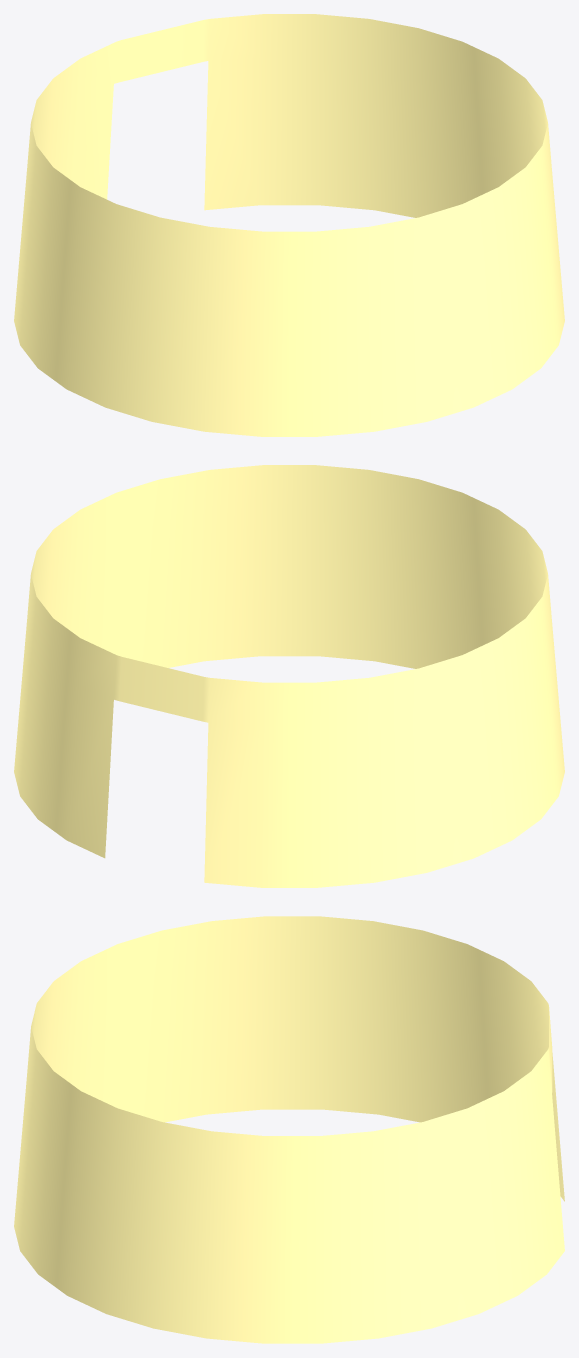
The model's file is wall2.glb.
3 renders of one model, top to bottom at view 1: azimuth 30°, elevation 25°; view 2: azimuth 150°, elevation 25°; view 3: azimuth 270°, elevation 25°, orthographic.
Visible parts, largest first — view 1: wall2; view 2: wall2; view 3: wall2.
Boxes of the visible parts, box(x1,y1,x2,y2) form: wall2: box(14, 14, 564, 436); wall2: box(14, 465, 564, 887); wall2: box(14, 916, 564, 1343).
Size of the model in its own units: 20.09 by 8.02 by 19.98.
